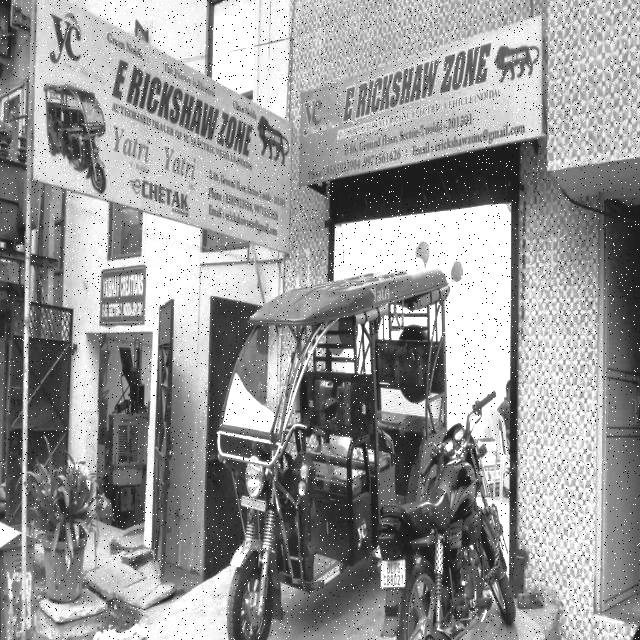Toto: (221, 267, 453, 639)
